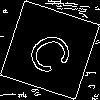C: (25, 25, 82, 78)
